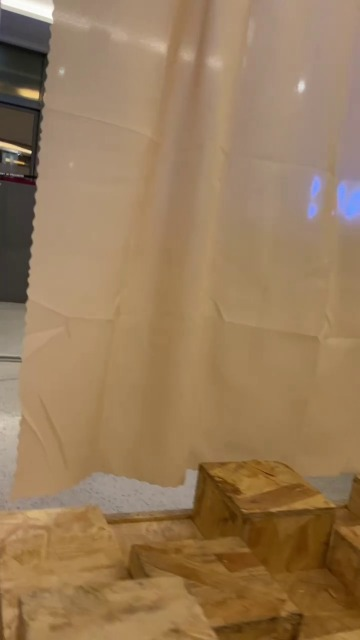curtain: (14, 0, 360, 512)
